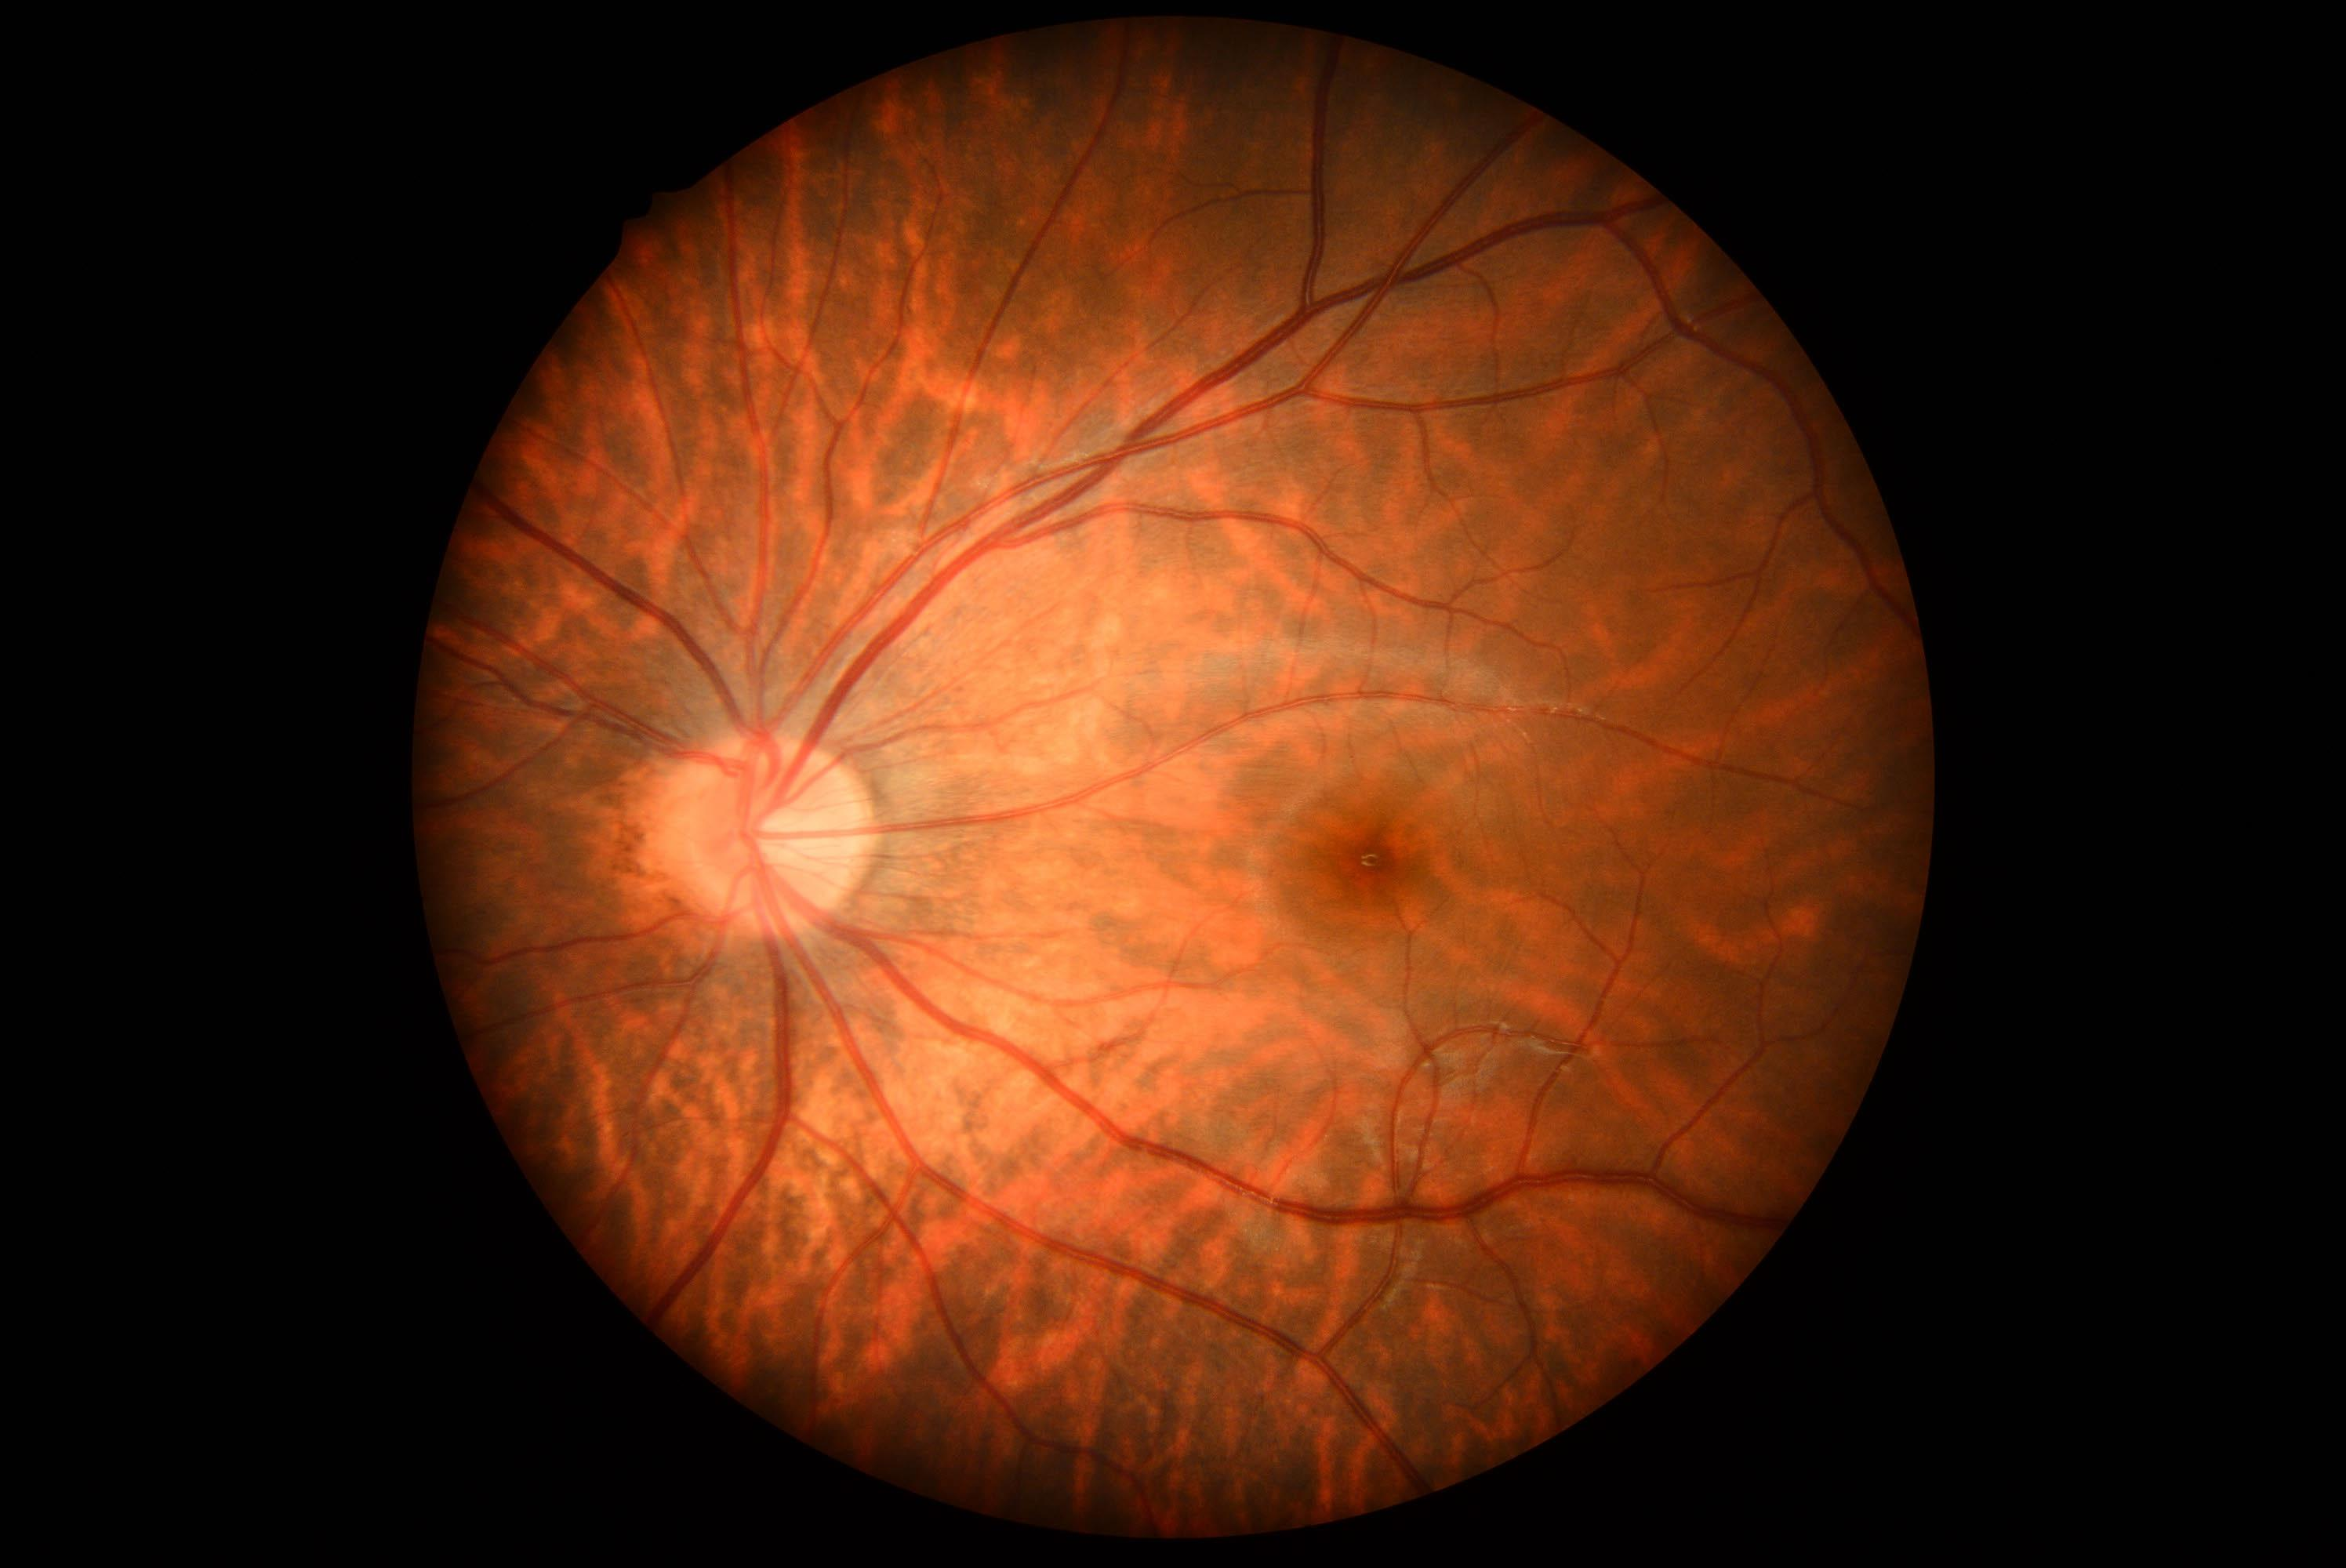Fovea: (1302, 782, 1454, 936)
